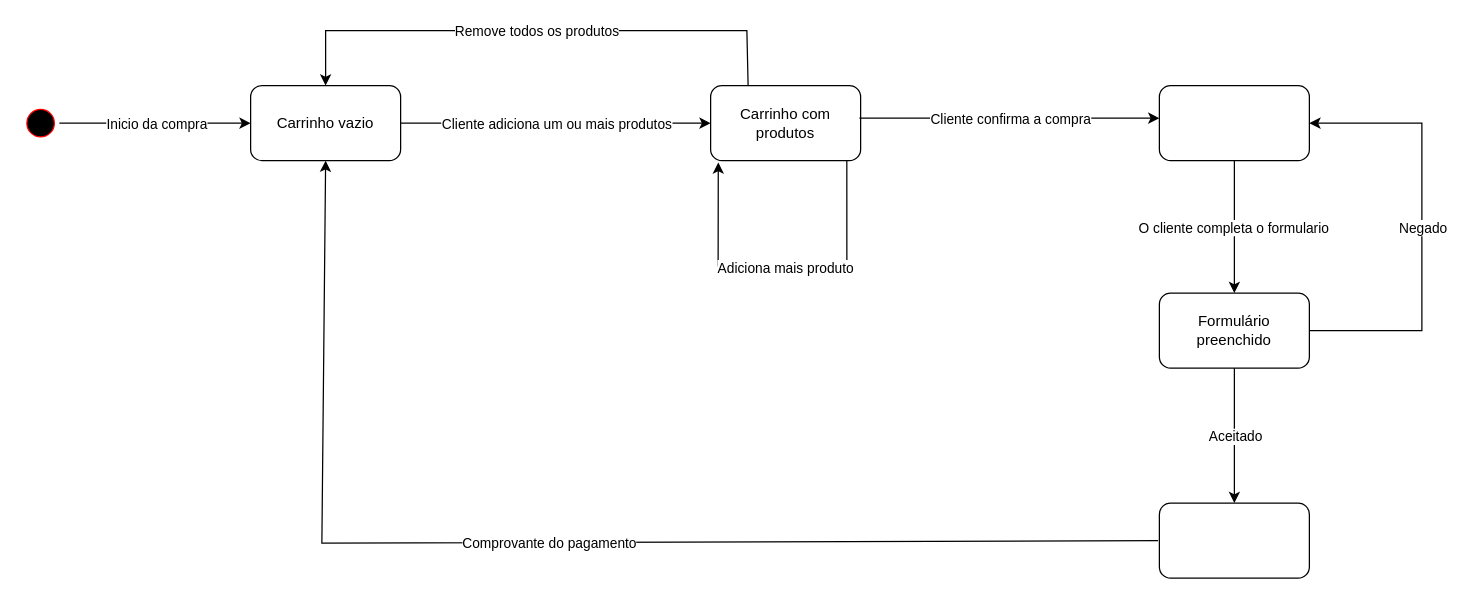
Image size: 1469x600. Some labels were removed from this diagram. The centre of each missing label's shape, as x and y in pixels:
"Compra realizada com sucesso" goes at (x=1233, y=540).
"Formulário de pagamento vazio" goes at (x=1233, y=122).
